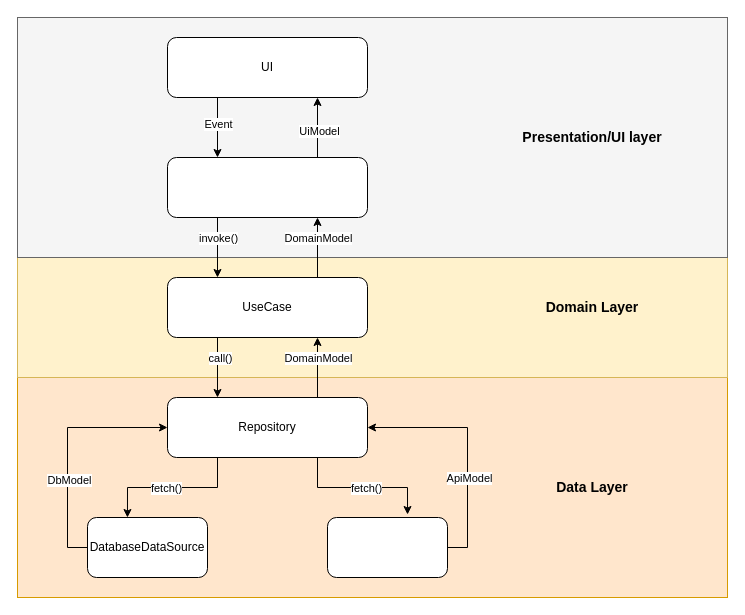
This 745x615 diagram has some shape labels left out. Here are the shapes that lost their labels. From the top down, the centre of each, then its label:
At (267,187): "ViewModel".
At (387,547): "NetworDataSource".
